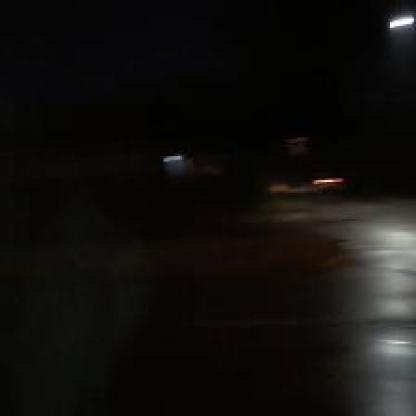other: (305, 165, 350, 204), (372, 9, 412, 39)
